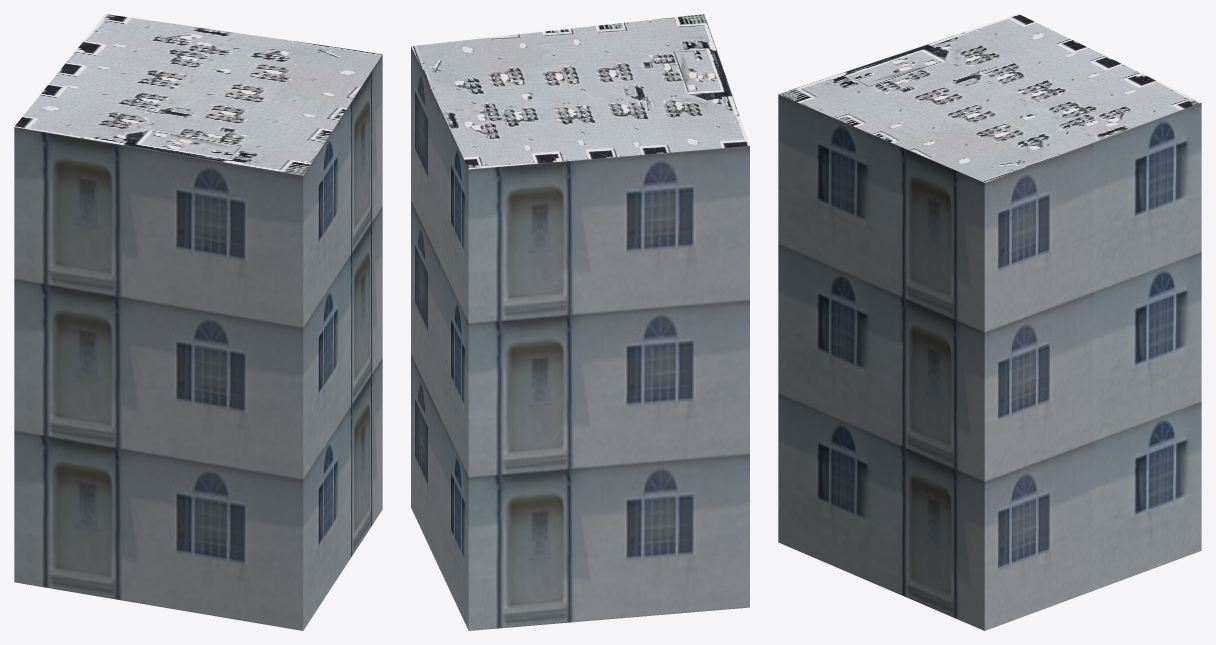
File: ResTex__4536.fbx
The picture shows the model from 3 angles, left to right: view 1: azimuth 30°, elevation 25°; view 2: azimuth 150°, elevation 25°; view 3: azimuth 270°, elevation 25°; orthographic projection. The views are drawn at different scales.
Parts seen in each view (by area): view 1: CityEngineMaterial_17_m, CityEngineMaterial_m; view 2: CityEngineMaterial_17_m, CityEngineMaterial_m; view 3: CityEngineMaterial_17_m, CityEngineMaterial_m.
Part boxes in pixels (left/top/right/bottom): CityEngineMaterial_17_m: left=14, top=54, right=382, bottom=630; CityEngineMaterial_m: left=14, top=14, right=382, bottom=175; CityEngineMaterial_17_m: left=411, top=46, right=749, bottom=630; CityEngineMaterial_m: left=411, top=14, right=749, bottom=169; CityEngineMaterial_17_m: left=778, top=94, right=1201, bottom=630; CityEngineMaterial_m: left=778, top=14, right=1201, bottom=182.
Size of the model in its own units: 7.27 by 9 by 7.71.
2 materials, 2 textured.
